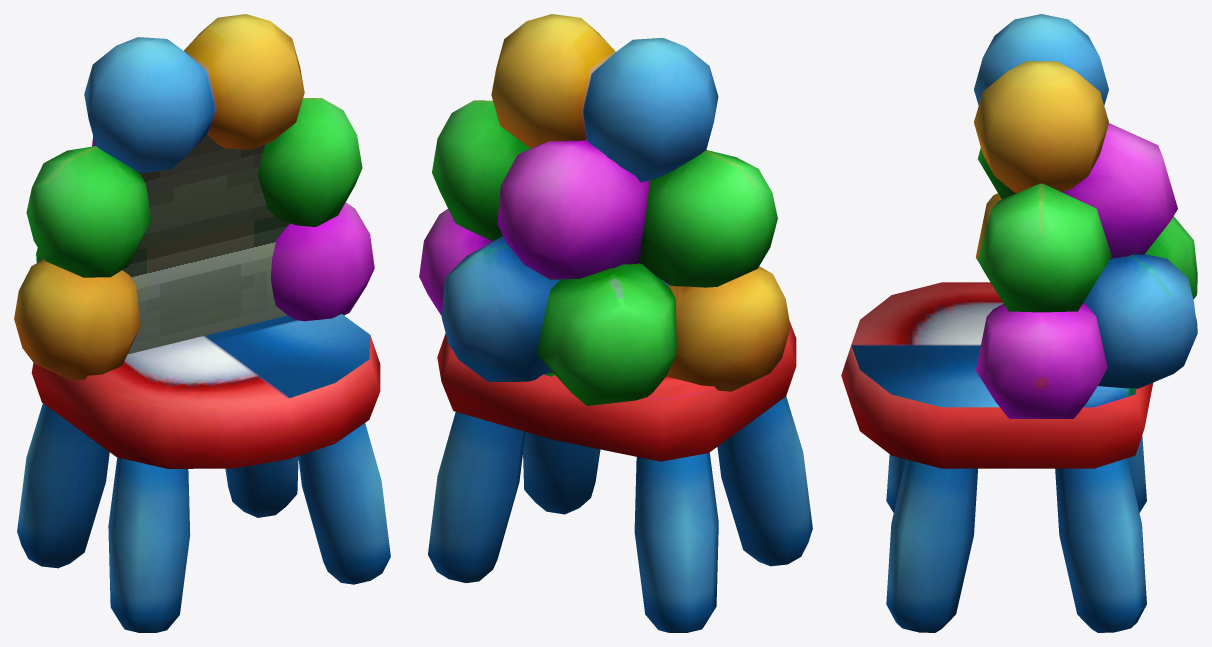
Rendered from int_bal_dresser.dae.
3 views of the same model, side by side, from view 1: azimuth 30°, elevation 25°; view 2: azimuth 150°, elevation 25°; view 3: azimuth 270°, elevation 25° (orthographic). The views are drawn at different scales.
Parts seen in each view (by area): view 1: int_bal_dresser; view 2: int_bal_dresser; view 3: int_bal_dresser.
Boxes of the visible parts, x1,y1,x2,y2 form: int_bal_dresser: (14, 14, 390, 632); int_bal_dresser: (419, 14, 812, 632); int_bal_dresser: (841, 14, 1197, 632).
Size of the model in its own units: 29.11 by 43.08 by 26.01.
2 materials, 2 textured.
